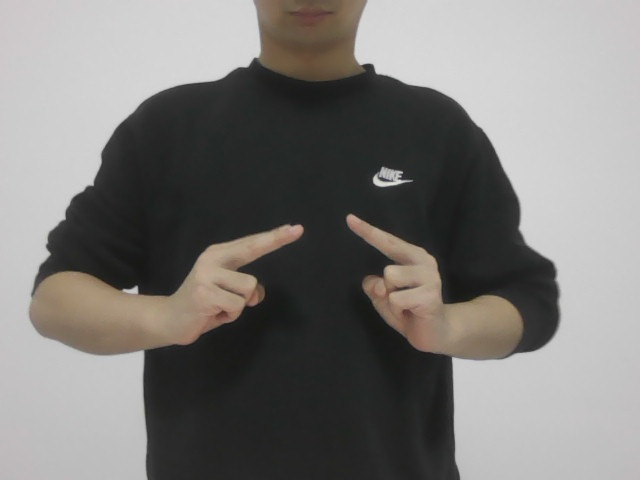know: (157, 213, 449, 365)
